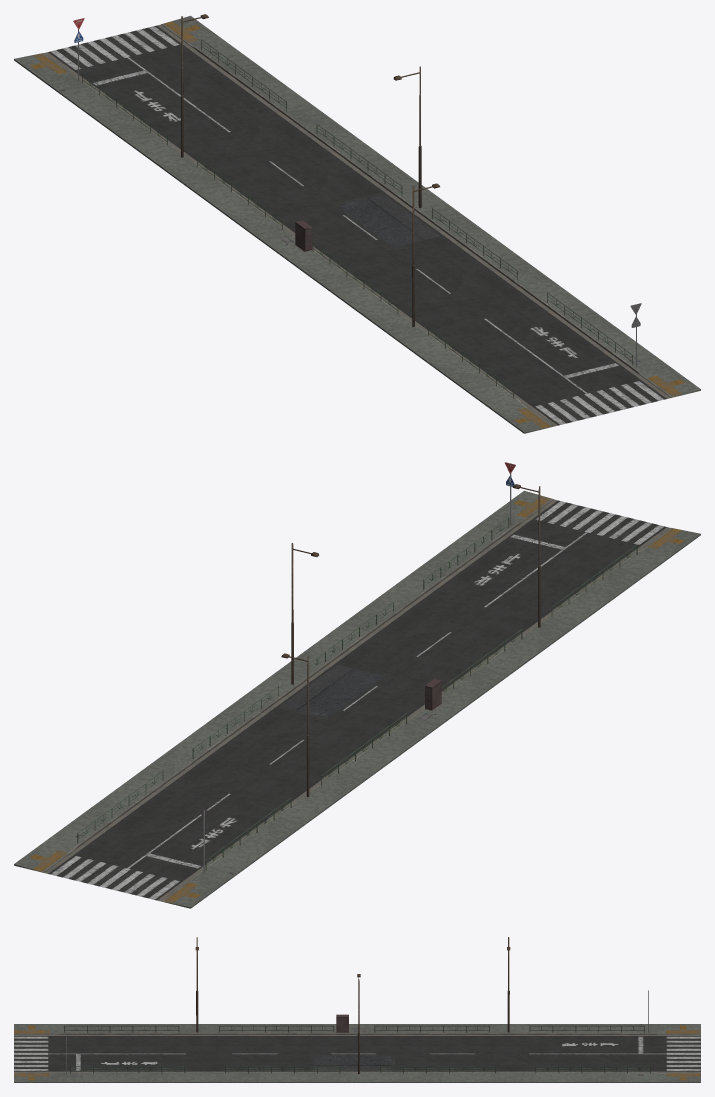
The model's file is jctlowRoad12mA_a.fbx.
3 views of the same model, one above another, from view 1: azimuth 30°, elevation 25°; view 2: azimuth 150°, elevation 25°; view 3: azimuth 270°, elevation 25° (orthographic). The views are drawn at different scales.
Visible parts, largest first — view 1: jctlowRoad12mA_a; view 2: jctlowRoad12mA_a; view 3: jctlowRoad12mA_a.
Boxes of the visible parts, x1,y1,x2,y2 form: jctlowRoad12mA_a: [14, 14, 700, 433]; jctlowRoad12mA_a: [14, 462, 700, 908]; jctlowRoad12mA_a: [14, 937, 700, 1082].
Bounding box in the file's own units: 1200 × 925 × 6000.
Materials: 4 (4 with a texture image).
